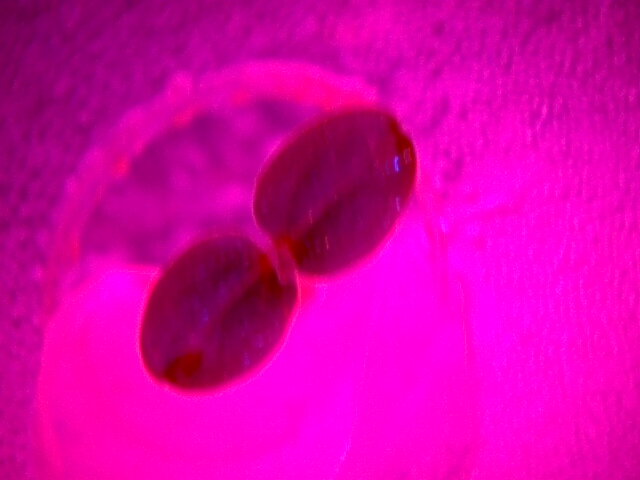seedling: (114, 100, 437, 412)
